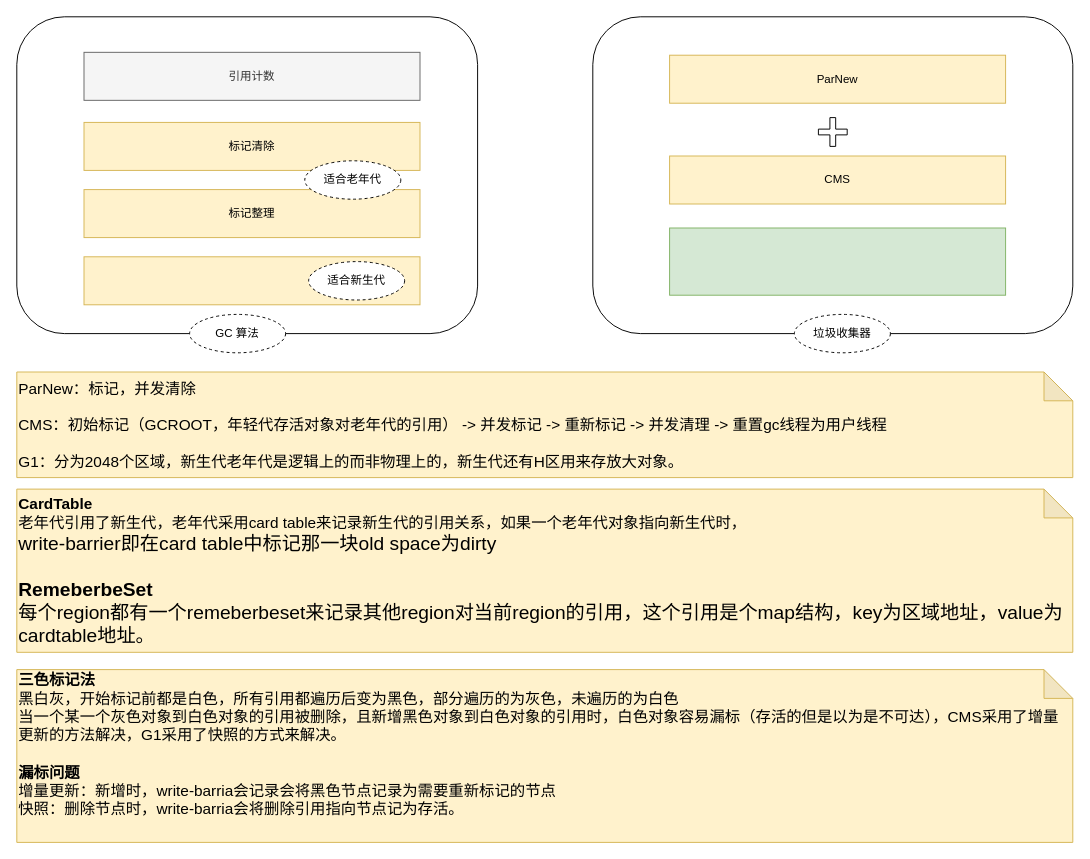
This 1090x859 diagram has some shape labels left out. The box of each missing label's shape, as (x1, y1, x2, y2) in pixels:
G1: (669, 227, 1006, 295)
标记复制: (83, 256, 420, 305)
